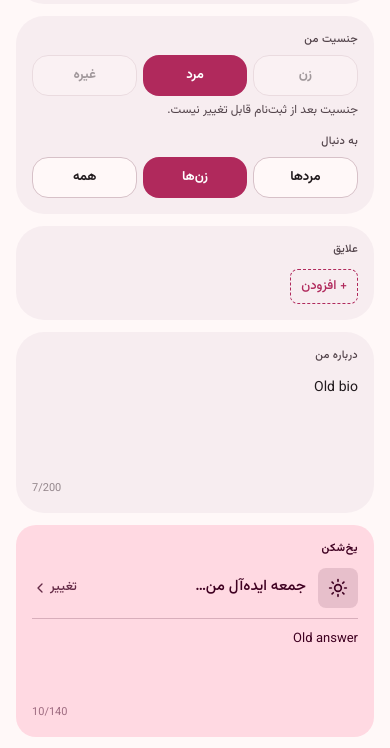
MyProfile profile-text check › shows a bio rejection under the bio, keeps the text, and clears it on edit
The width and height of the screenshot is (390, 748).
(page scrolled)
Replace the text in the text box with placeholder "از خودت بگو…" below "درباره من" with "insta: ali_99": (195, 422) [32,376,358,468]
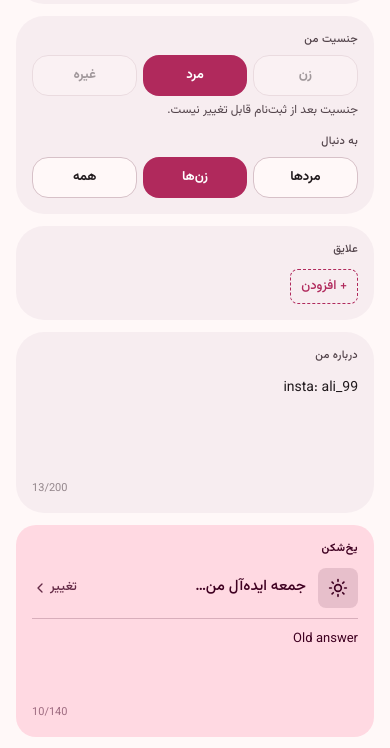
Leave the text box with placeholder "از خودت بگو…" below "درباره من", box [32,376,358,468]
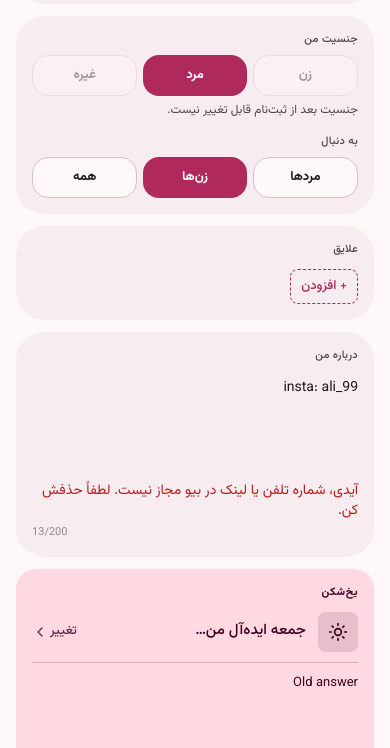
Now the text "آیدی، شماره تلفن یا لینک در بیو مجاز نیست. لطفاً حذفش کن." is shown, box [32,480,358,520]
Replace the text in the text box with placeholder "از خودت بگو…" below "درباره من" with "I love hiking": (195, 422) [32,376,358,468]
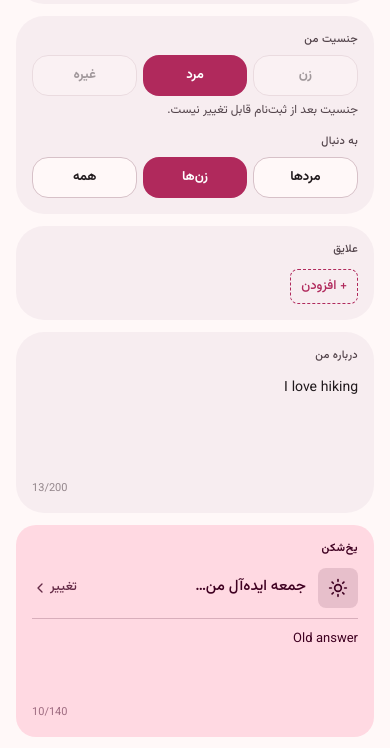
Now the text "آیدی، شماره تلفن یا لینک در بیو مجاز نیست. لطفاً حذفش کن." is gone
